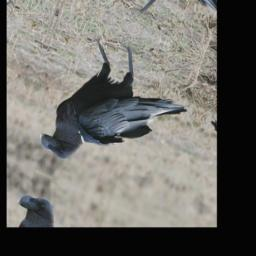Crow: (35, 23, 199, 201)
